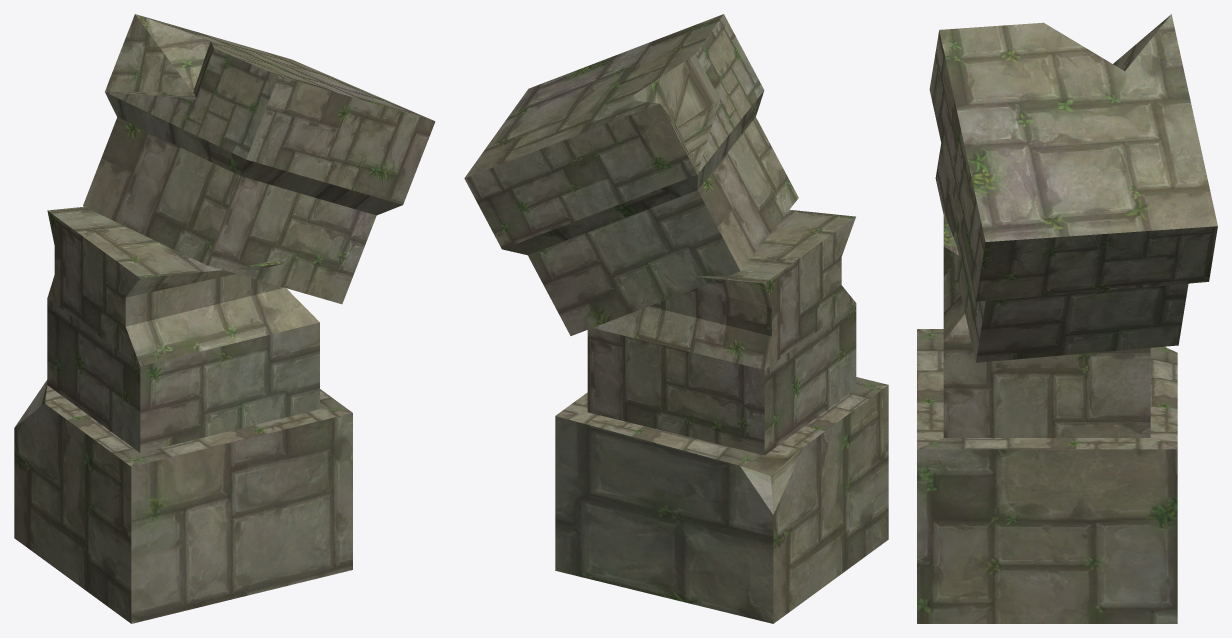
The model's file is Col_b.glb.
The picture shows the model from 3 angles, left to right: view 1: azimuth 30°, elevation 25°; view 2: azimuth 150°, elevation 25°; view 3: azimuth 270°, elevation 25°; orthographic projection. The views are drawn at different scales.
Parts seen in each view (by area): view 1: Col_b; view 2: Col_b; view 3: Col_b.
Part boxes in pixels (box(x1,y1,x2,y2)): Col_b: box(14, 14, 435, 623); Col_b: box(464, 14, 888, 623); Col_b: box(917, 14, 1217, 623).
Size of what is drawn, in the model's own units: 2.08 by 2.98 by 1.45.
1 material, 1 textured.
